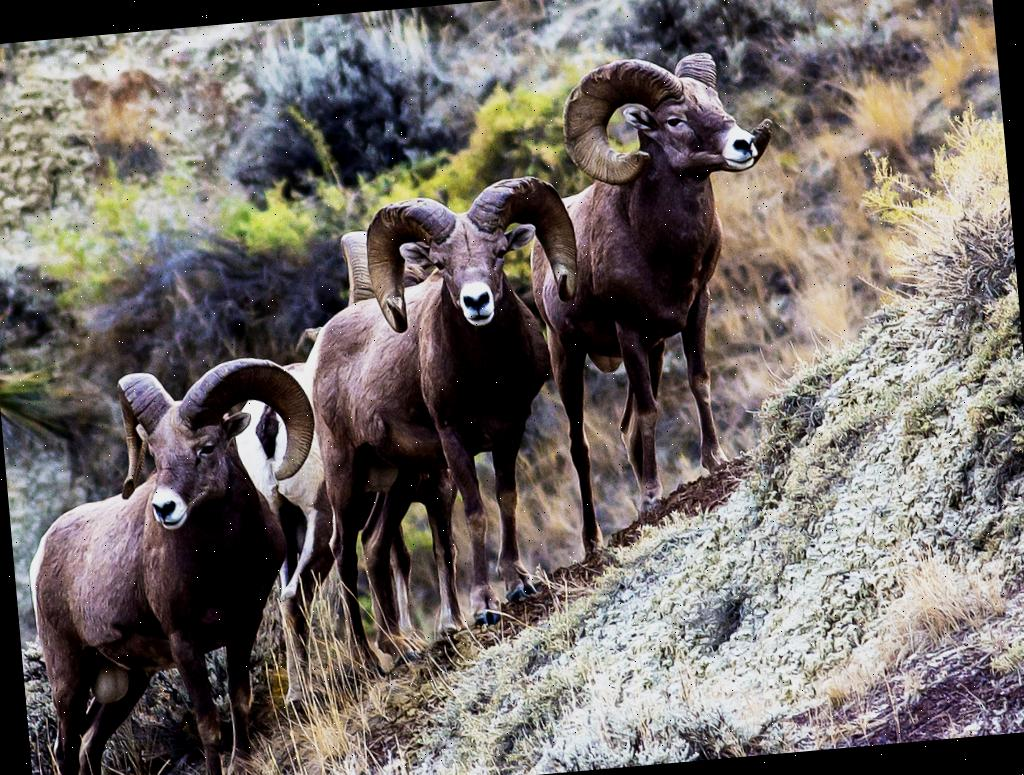Sheep: (279, 173, 608, 655), (0, 319, 346, 775), (510, 48, 804, 563)
